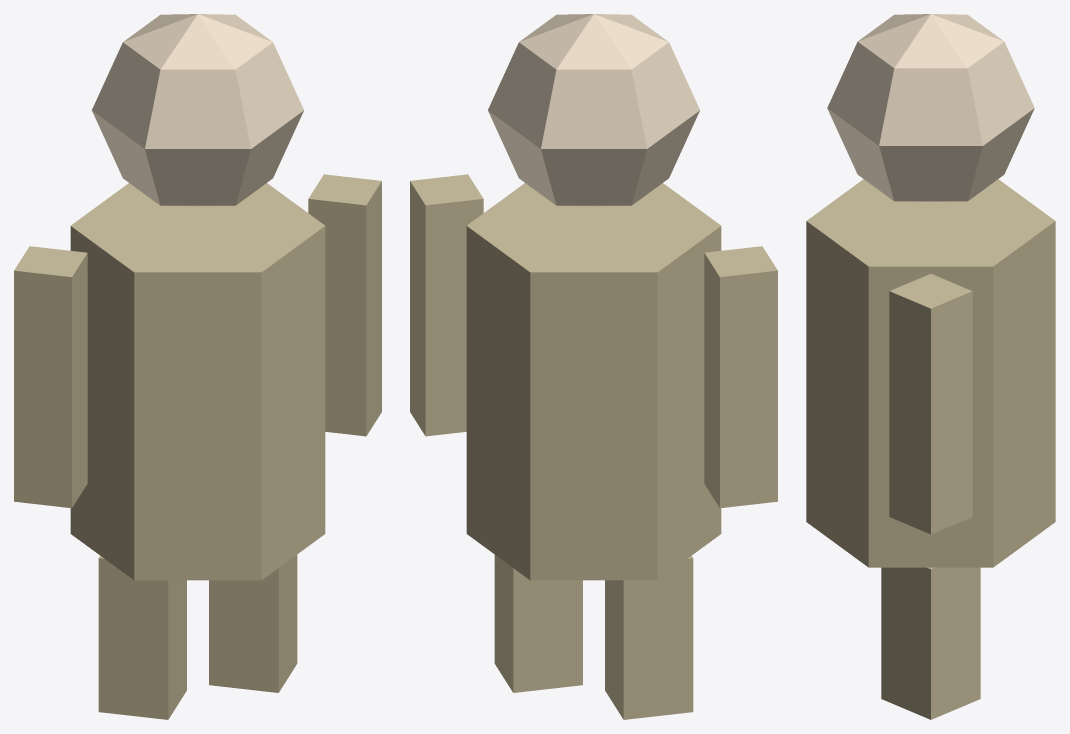
File: orchardist.glb
The picture shows the model from 3 angles, left to right: view 1: azimuth 30°, elevation 25°; view 2: azimuth 150°, elevation 25°; view 3: azimuth 270°, elevation 25°; orthographic projection. The views are drawn at different scales.
Parts seen in each view (by area): view 1: orchardist_torso, orchardist_head, orchardist_arm_l, orchardist_arm_r, orchardist_leg_l, orchardist_leg_r; view 2: orchardist_torso, orchardist_head, orchardist_arm_l, orchardist_arm_r, orchardist_leg_l, orchardist_leg_r; view 3: orchardist_torso, orchardist_head, orchardist_arm_r, orchardist_leg_r.
Part boxes in pixels (x1,y1,x2,y2): orchardist_torso: (70,183,325,580); orchardist_head: (92,14,303,206); orchardist_arm_l: (14,246,87,508); orchardist_arm_r: (308,174,381,436); orchardist_leg_l: (98,555,186,719); orchardist_leg_r: (209,555,297,692); orchardist_torso: (466,183,721,580); orchardist_head: (488,14,699,206); orchardist_arm_l: (704,246,777,508); orchardist_arm_r: (410,174,483,436); orchardist_leg_l: (605,555,693,719); orchardist_leg_r: (494,555,582,692); orchardist_torso: (806,179,1055,567); orchardist_head: (827,14,1034,201); orchardist_arm_r: (889,274,972,534); orchardist_leg_r: (881,567,980,719).
Bounding box in the file's own units: 0.375 × 0.6562 × 0.225.
